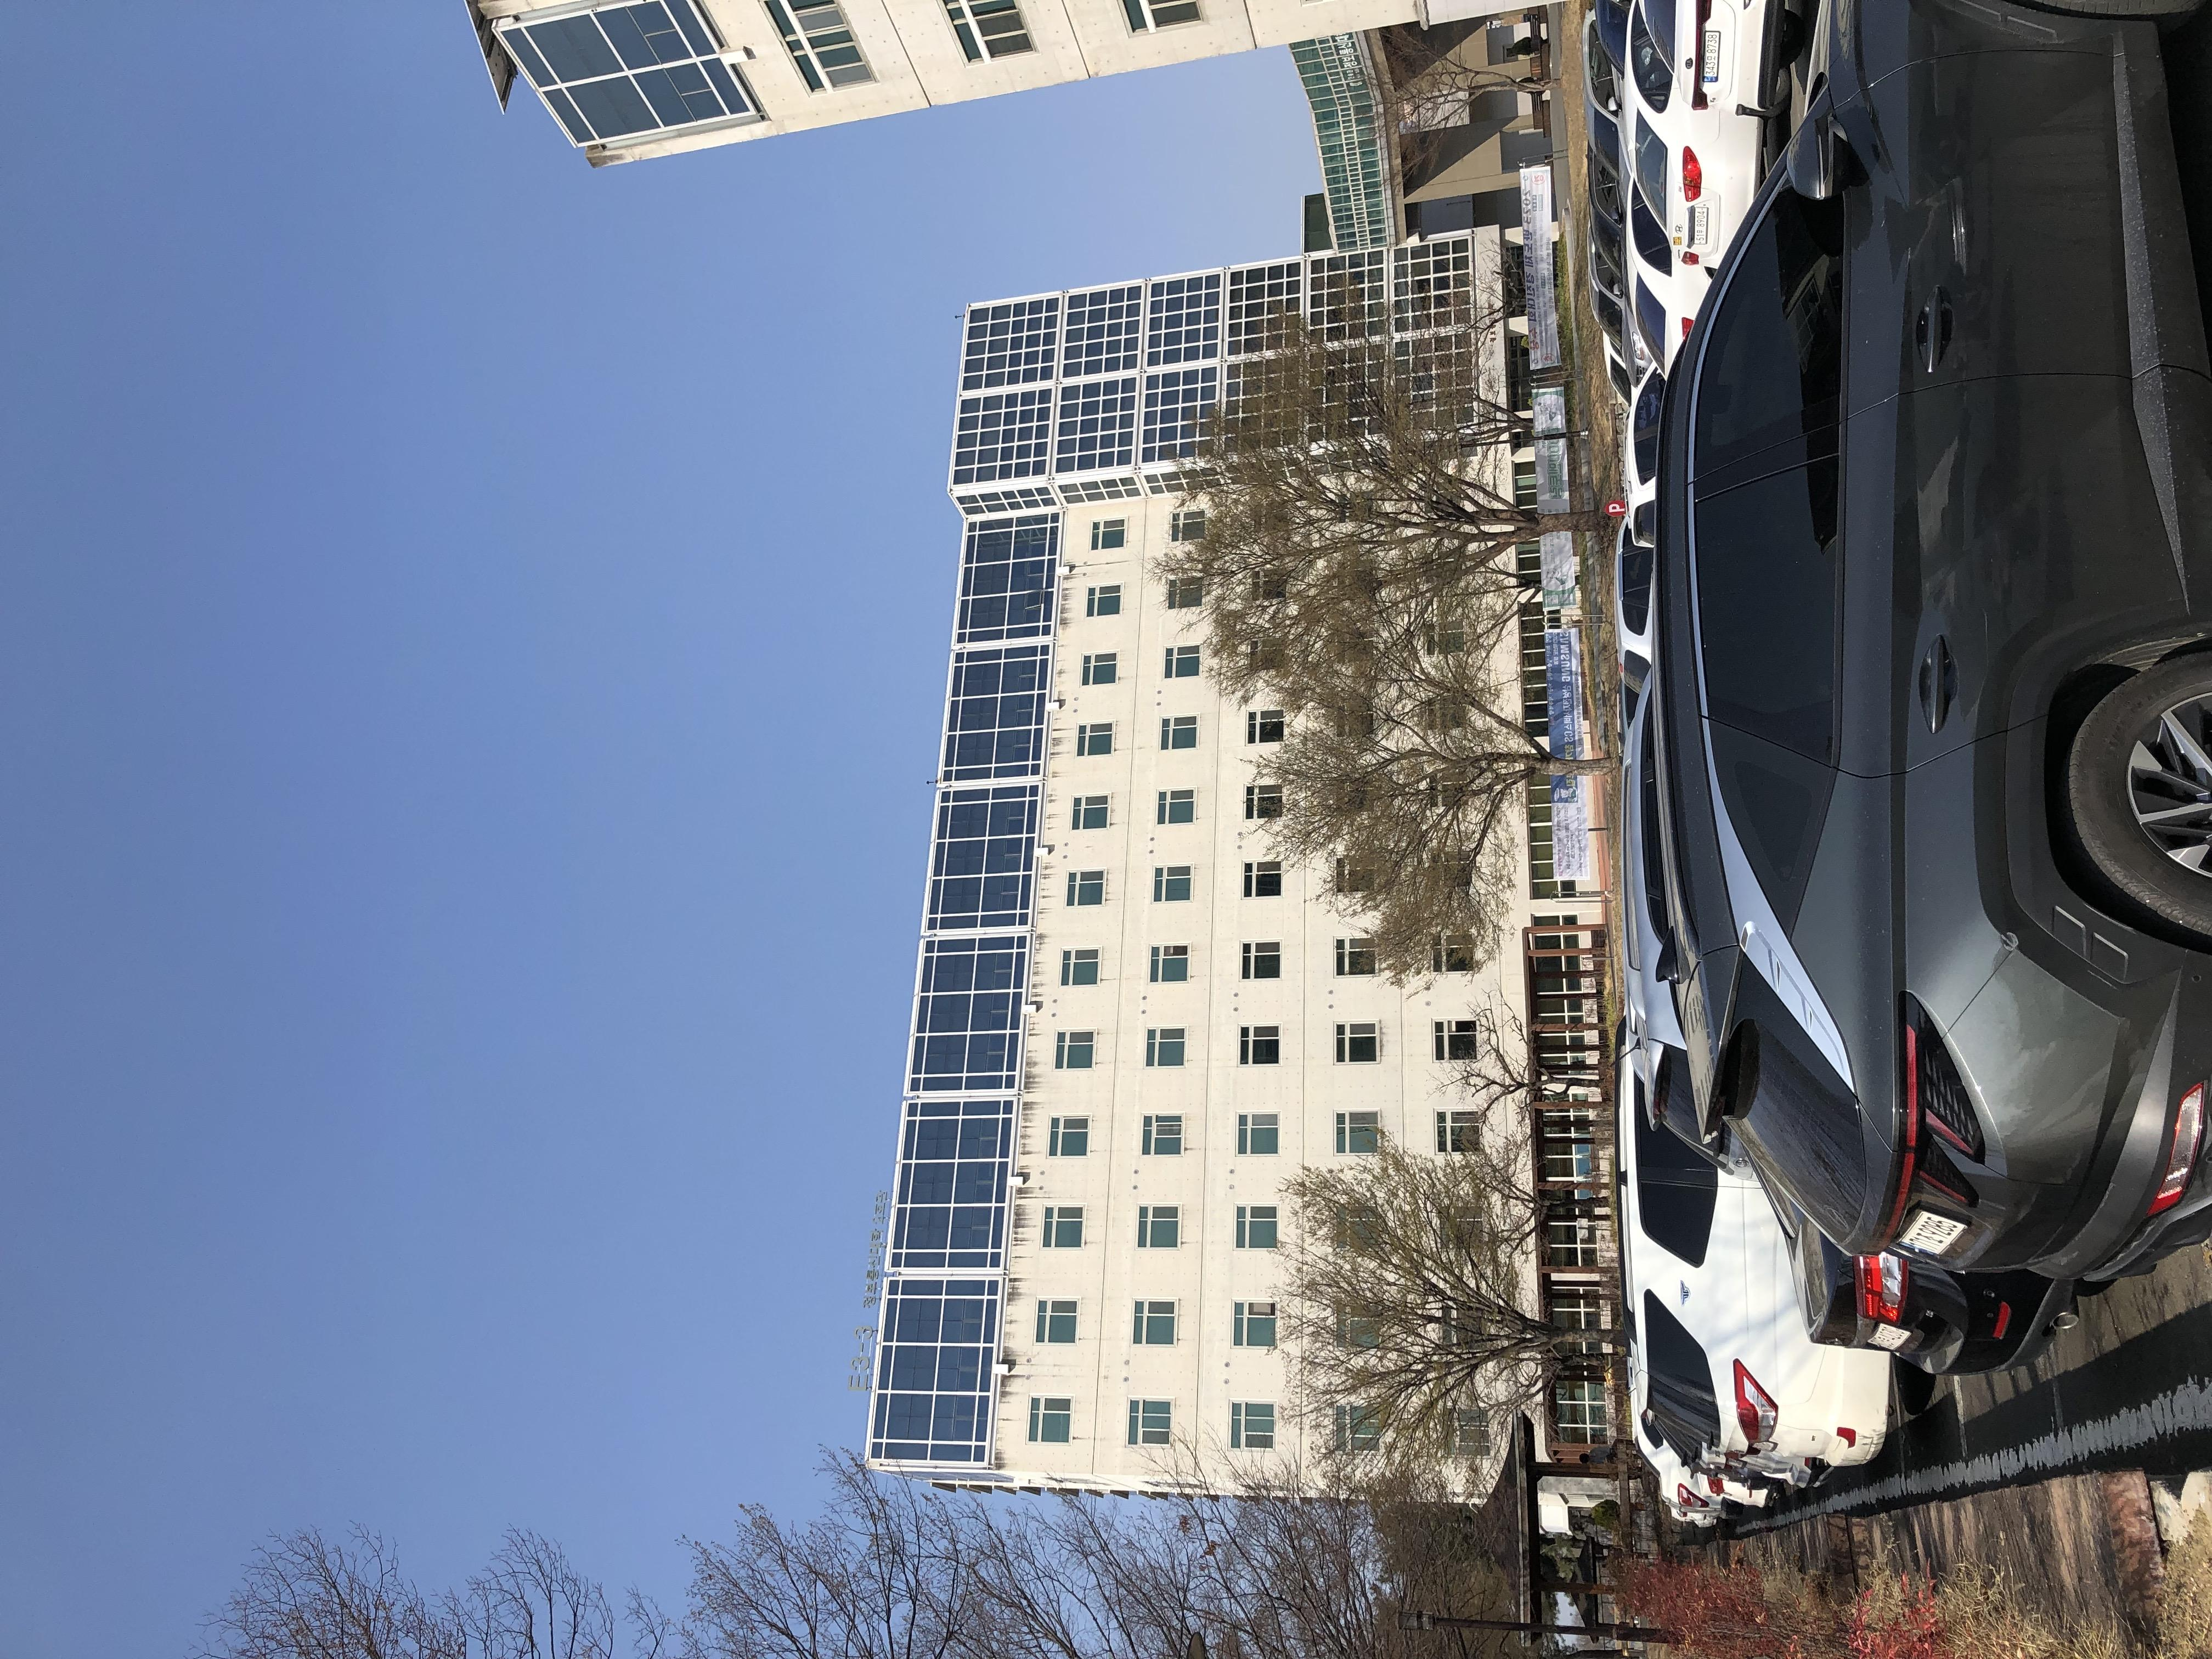building: (157, 601, 1965, 1206)
